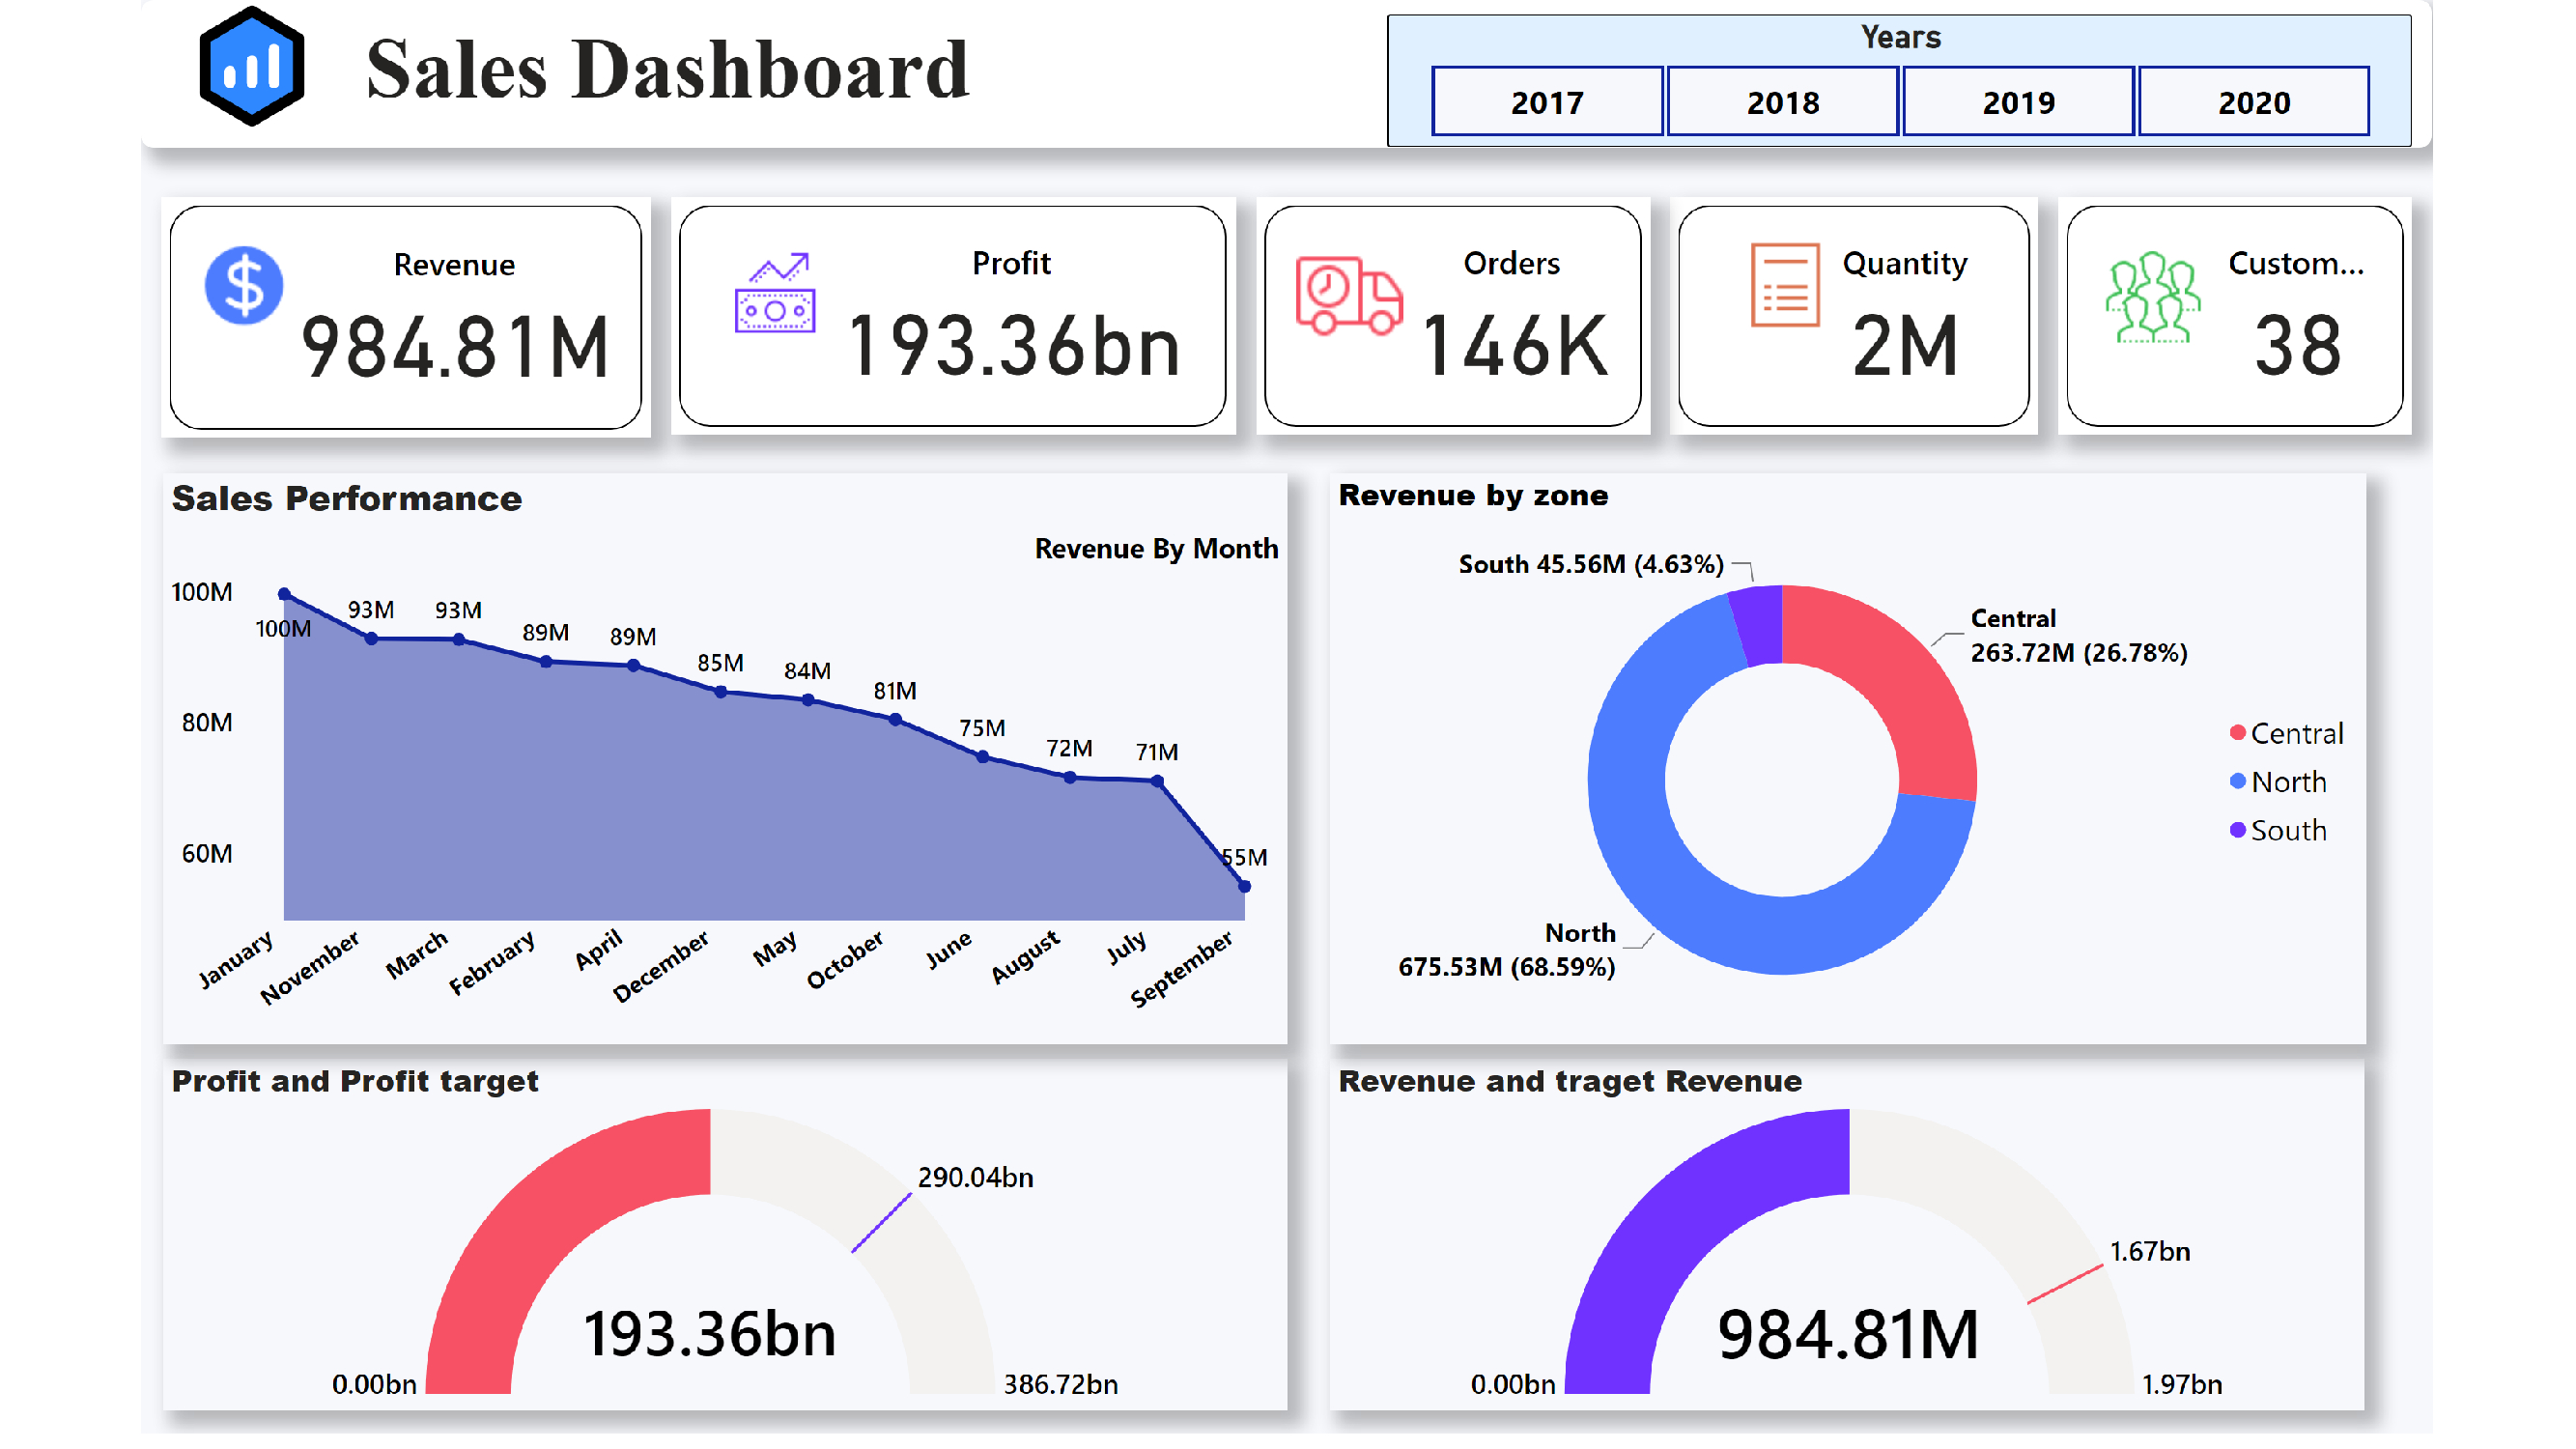

This screenshot's page, from the dashboard's own definition file:
{"tool":"powerbi","page":{"name":"Page 1","canvas":[1440,900],"ordinal":0},"visuals":[{"type":"textbox","box":[0,0,1439.5,92.8],"z":0},{"type":"actionButton","title":"Icon sales","box":[13.6,0,111.7,83],"z":1000},{"type":"slicer","title":"Years","fields":{"Values":["sales date.year"]},"box":[782.5,9.1,644.2,83.7],"z":2000},{"type":"cardVisual","fields":{"Data":["Sum(sales transactions.sales_amount)"]},"box":[12.7,123.7,307.5,151],"z":3000},{"type":"cardVisual","fields":{"Data":["BaseMeasures.SalesQuantity"]},"box":[960.8,123.7,231.1,149.2],"z":4000},{"type":"cardVisual","fields":{"Data":["BaseMeasures.Total Profit"]},"box":[333,123.7,354.9,149.2],"z":5000},{"type":"cardVisual","fields":{"Data":["BaseMeasures.Total Customers"]},"box":[1204.7,123.7,222,149.2],"z":6000},{"type":"cardVisual","fields":{"Data":["BaseMeasures.Total Orders"]},"box":[700.6,123.7,247.5,149.2],"z":7000},{"type":"areaChart","title":"Sales Performance","fields":{"Category":["sales date.month_name"],"Y":["BaseMeasures.Total Sales by Month"]},"box":[13.2,295.8,742.1,360.3],"z":8000},{"type":"donutChart","fields":{"Series":["sales markets.zone"],"Y":["BaseMeasures.Revenue"]},"box":[781.7,295.8,616.5,360.3],"z":8001},{"type":"gauge","title":" Profit and Profit target","fields":{"Y":["BaseMeasures.Total Profit"],"TargetValue":["BaseMeasures.tagret_profit"]},"box":[13,666,742,234],"z":8002},{"type":"gauge","title":"Revenue and traget Revenue","fields":{"Y":["BaseMeasures.Revenue"],"TargetValue":["BaseMeasures.traget Revenue"]},"box":[782,666,616,234],"z":8003}]}

Visuals, with their boxes on the page's 1440x900 design canvas (x1, y1, x2, y2). These are canvas units, not pixel positions in the 2576x1449 screenshot, which may show the page scaled, cropped or inside an application window:
textbox: (0, 0, 1440, 93)
"Icon sales" actionButton: (14, 0, 125, 83)
"Years" slicer: (782, 9, 1427, 93)
cardVisual - Sum(sales transactions.sales_amount): (13, 124, 320, 275)
cardVisual - BaseMeasures.SalesQuantity: (961, 124, 1192, 273)
cardVisual - BaseMeasures.Total Profit: (333, 124, 688, 273)
cardVisual - BaseMeasures.Total Customers: (1205, 124, 1427, 273)
cardVisual - BaseMeasures.Total Orders: (701, 124, 948, 273)
"Sales Performance" areaChart: (13, 296, 755, 656)
donutChart - sales markets.zone x BaseMeasures.Revenue: (782, 296, 1398, 656)
" Profit and Profit target" gauge: (13, 666, 755, 900)
"Revenue and traget Revenue" gauge: (782, 666, 1398, 900)
